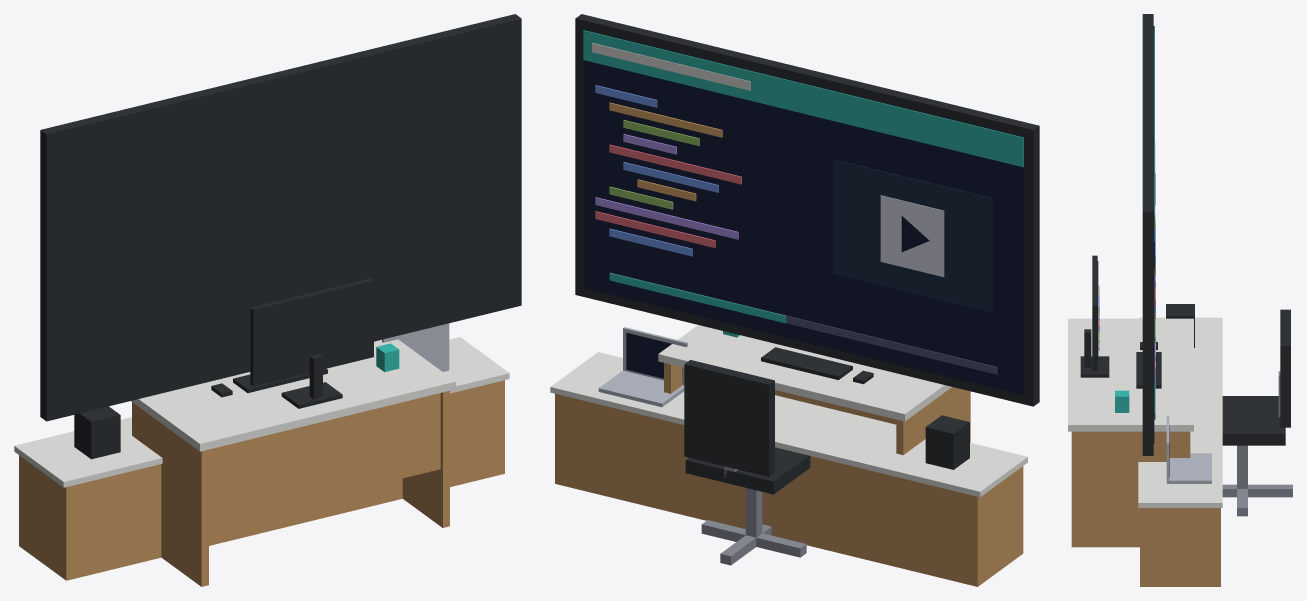
The model's file is shop-software.glb.
The picture shows the model from 3 angles, left to right: view 1: azimuth 30°, elevation 25°; view 2: azimuth 150°, elevation 25°; view 3: azimuth 270°, elevation 25°; orthographic projection. The views are drawn at different scales.
Parts seen in each view (by area): view 1: course-screen, workstation; view 2: course-screen, workstation; view 3: workstation, course-screen.
Boxes of the visible parts, x1=… form: course-screen: x1=14, y1=14, x2=521, y2=580; workstation: x1=131, y1=278, x2=455, y2=586; course-screen: x1=550, y1=14, x2=1039, y2=586; workstation: x1=658, y1=325, x2=970, y2=565; workstation: x1=1068, y1=255, x2=1292, y2=547; course-screen: x1=1138, y1=14, x2=1222, y2=586.
Size of the model in its own units: 2.6 by 2.35 by 1.25.
1 material, 1 textured.
